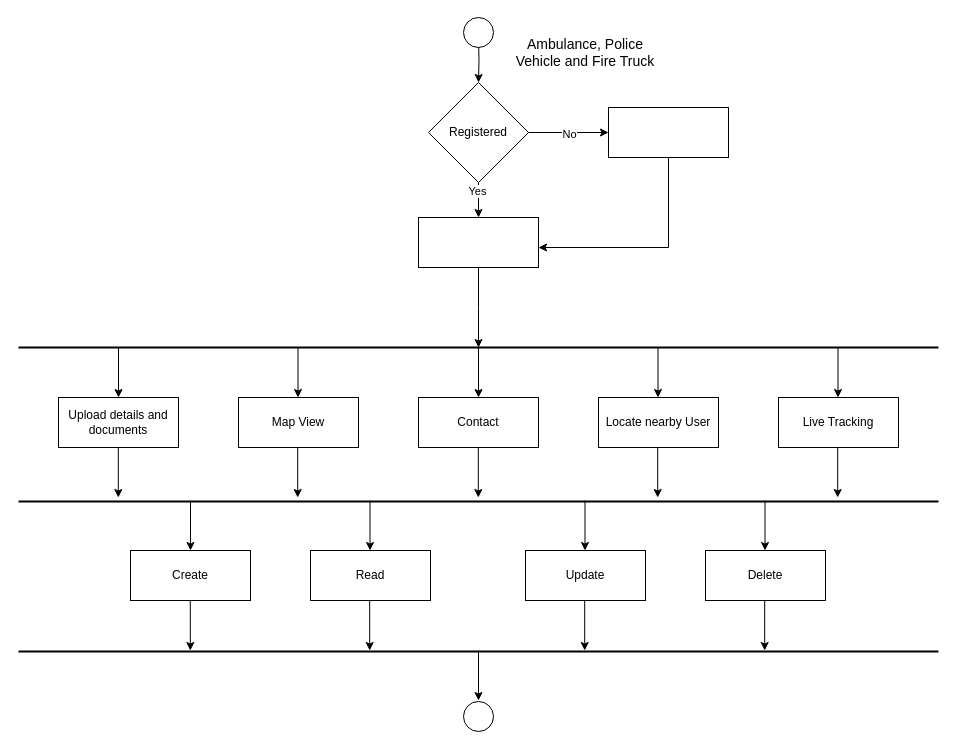
This 957x749 diagram has some shape labels left out. Here are the shapes that lost their labels. From the top down, the centre of each, then its label:
At [668,132]: "Signup".
At [478,242]: "Login".
